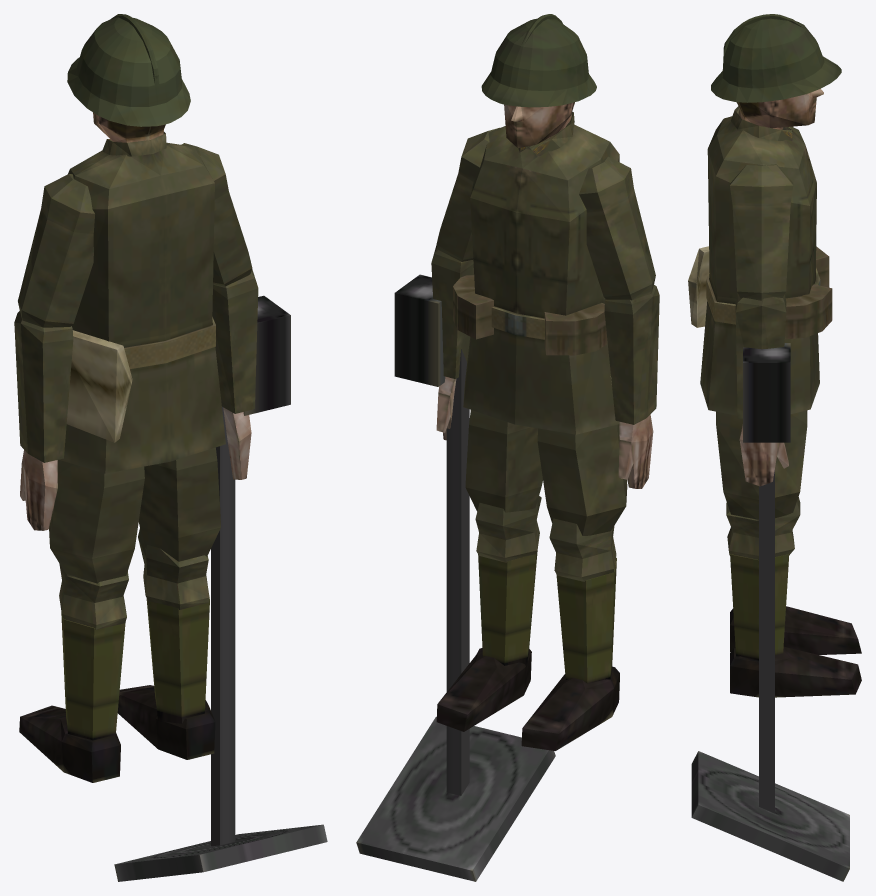
File: us_engineer.glb
3 views of the same model, side by side, from view 1: azimuth 30°, elevation 25°; view 2: azimuth 150°, elevation 25°; view 3: azimuth 270°, elevation 25° (orthographic). The views are drawn at different scales.
Visible parts, largest first — view 1: torso, detector, head, rleg, lleg, lloarm, lthigh, luparm, rthigh, rloarm, lfoot, rfoot (+1 smaller); view 2: torso, detector, head, lleg, rleg, lloarm, lthigh, luparm, rthigh, lfoot, rfoot, rloarm (+1 smaller); view 3: torso, detector, head, ruparm, rleg, rthigh, rloarm, rfoot, lfoot.
Boxes of the visible parts, x1,y1,x2,y2 form: torso: [59, 131, 225, 473]; detector: [114, 295, 327, 881]; head: [67, 14, 190, 142]; rleg: [138, 528, 209, 723]; lleg: [59, 563, 128, 740]; lloarm: [14, 311, 73, 530]; lthigh: [49, 459, 144, 583]; luparm: [18, 174, 94, 327]; rthigh: [138, 447, 220, 561]; rloarm: [212, 269, 258, 479]; lfoot: [19, 705, 120, 782]; rfoot: [117, 685, 215, 759]; torso: [453, 111, 619, 434]; detector: [356, 274, 555, 881]; head: [481, 14, 596, 147]; lleg: [549, 518, 616, 683]; rleg: [475, 496, 541, 666]; lloarm: [604, 285, 659, 488]; lthigh: [537, 424, 627, 535]; luparm: [579, 156, 655, 300]; rthigh: [465, 410, 542, 512]; lfoot: [521, 666, 619, 750]; rfoot: [436, 648, 531, 731]; rloarm: [431, 245, 474, 440]; torso: [688, 106, 832, 415]; detector: [691, 343, 849, 881]; head: [711, 14, 841, 129]; ruparm: [730, 164, 793, 300]; rleg: [726, 497, 800, 660]; rthigh: [716, 410, 807, 519]; rloarm: [735, 293, 788, 486]; rfoot: [730, 646, 861, 697]; lfoot: [730, 606, 861, 654].
Bounding box in the file's own units: 0.5587 × 1.8 × 0.3538.
1 material, 1 textured.
